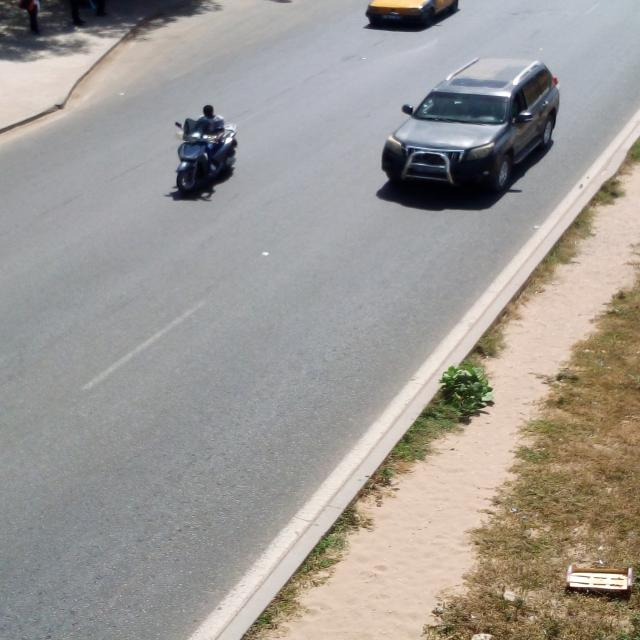moto: (176, 120, 238, 194)
particulier: (383, 60, 561, 192)
taxi: (368, 1, 459, 25)
